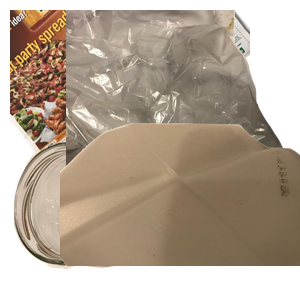glass: (11, 139, 179, 300)
paper: (10, 10, 250, 190)
plastic: (60, 120, 300, 300)
trash: (66, 10, 300, 190)
